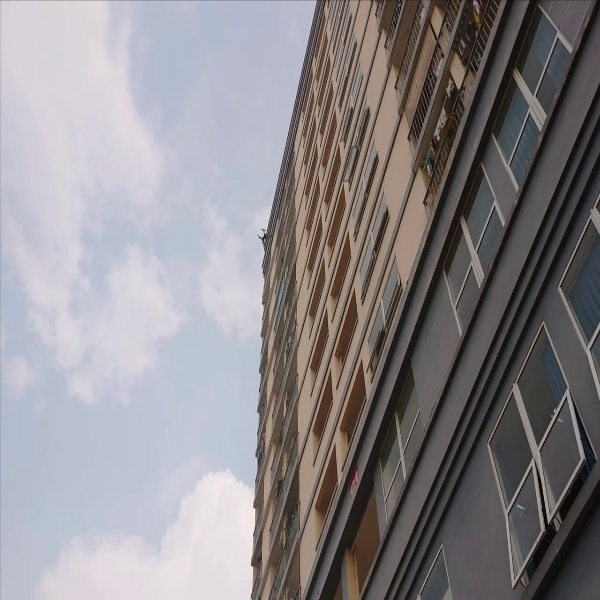drone: (253, 222, 274, 249)
